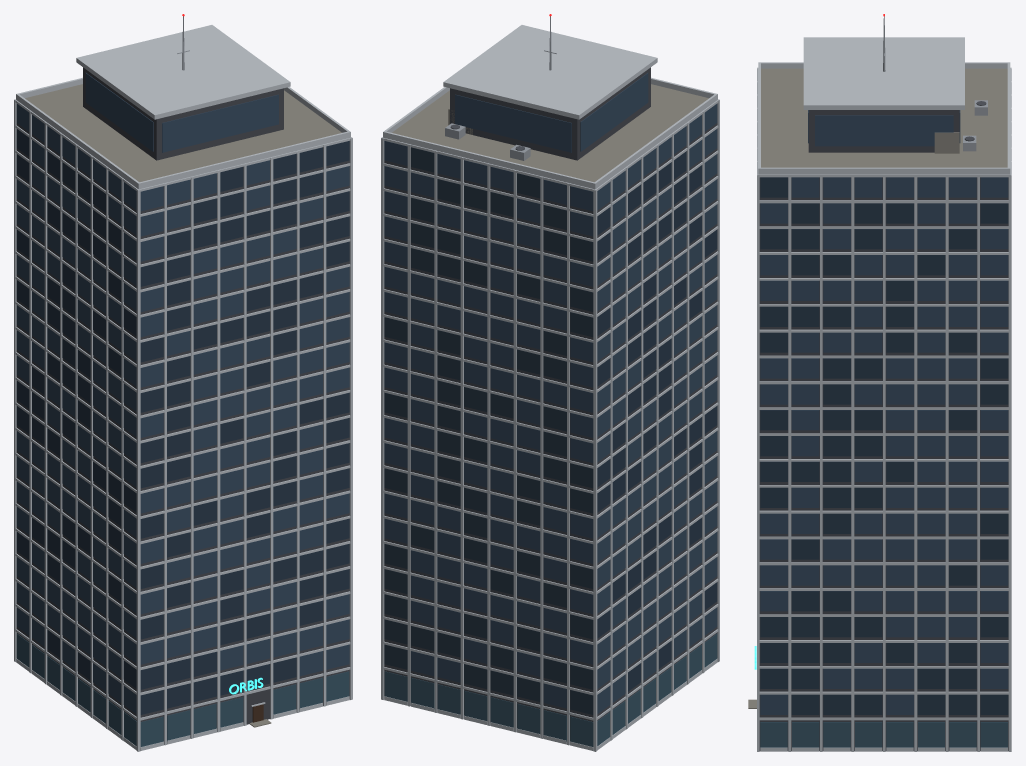
3 renders of one model, left to right at view 1: azimuth 30°, elevation 25°; view 2: azimuth 150°, elevation 25°; view 3: azimuth 270°, elevation 25°, orthographic. The views are drawn at different scales.
Visible parts, largest first — view 1: off_e; view 2: off_e; view 3: off_e.
Boxes of the visible parts, x1,y1,x2,y2 form: off_e: (14, 14, 352, 751); off_e: (381, 14, 719, 751); off_e: (748, 14, 1011, 751).
Size of what is drawn, in the model's own units: 30.36 by 89.9 by 31.38.
